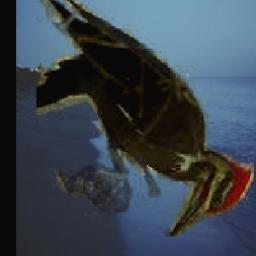Woodpecker: (37, 0, 255, 238)
